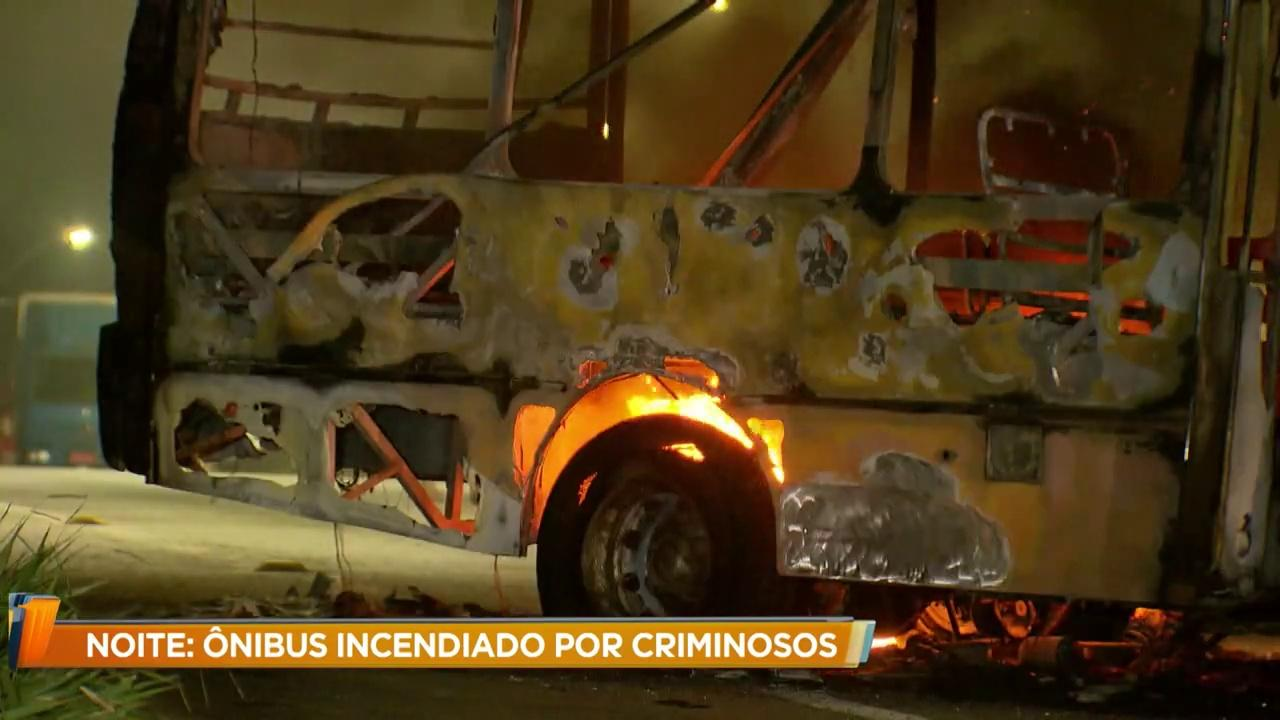fire: (578, 359, 768, 450)
